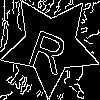R: (25, 20, 73, 76)
